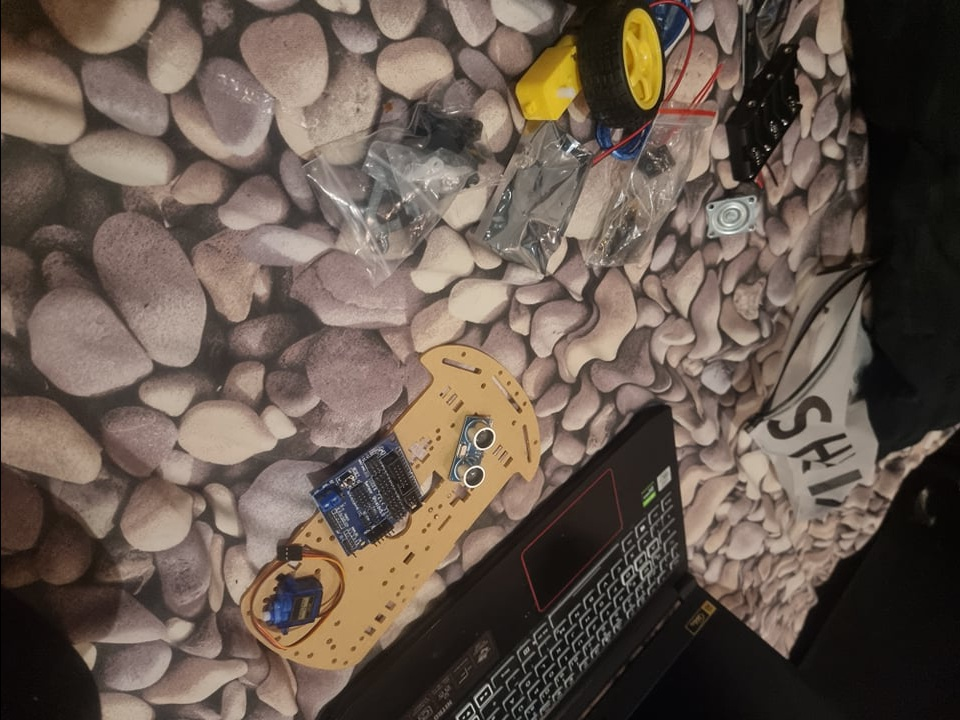5V EXPANSION: (309, 428, 423, 559)
BATTERY BOX: (722, 40, 819, 181)
SENSOR: (447, 414, 497, 490)
